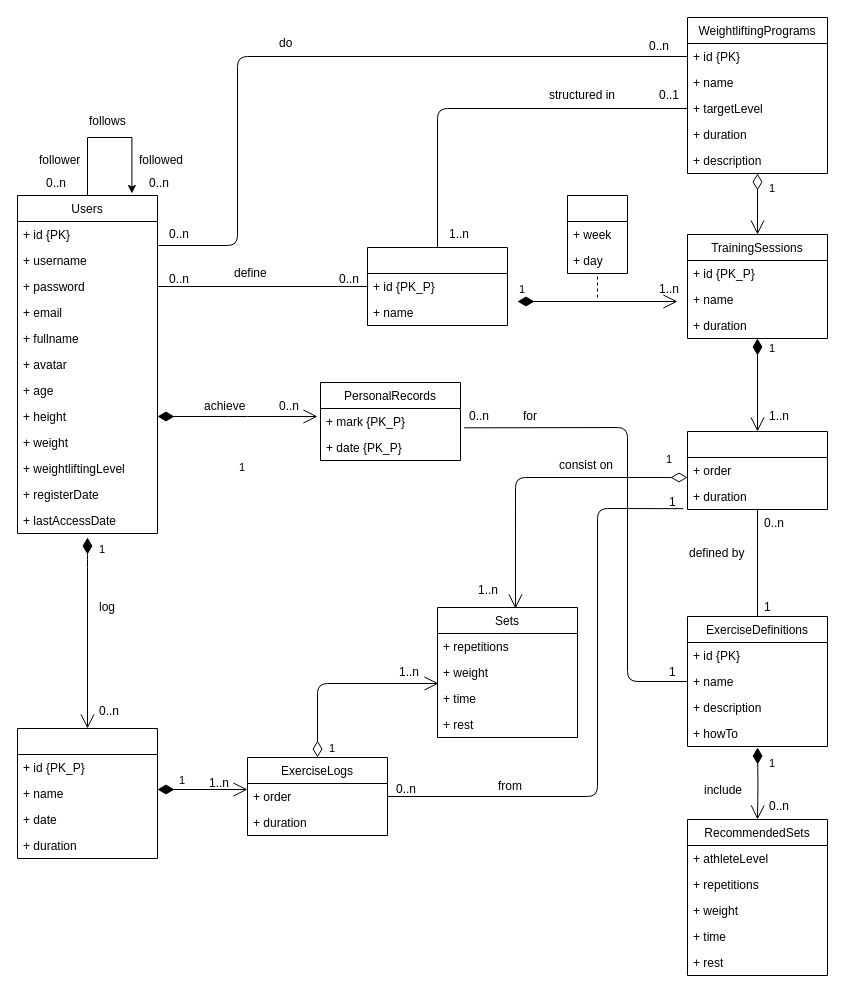
Some shapes in this 845 by 996 pixel diagram are drawn without their labels. Here are the shapes that lost their labels. From the top down, the box of each, then its label:
(566, 194, 628, 274): Time
(366, 246, 508, 326): TrainingSchedules
(686, 430, 828, 510): PlannedExercises
(16, 728, 158, 858): TrainingLogs
